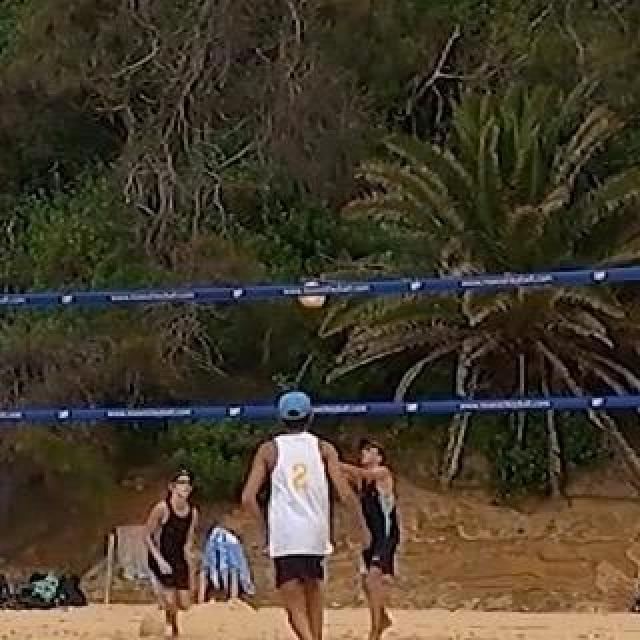volleyball: (298, 279, 326, 307)
